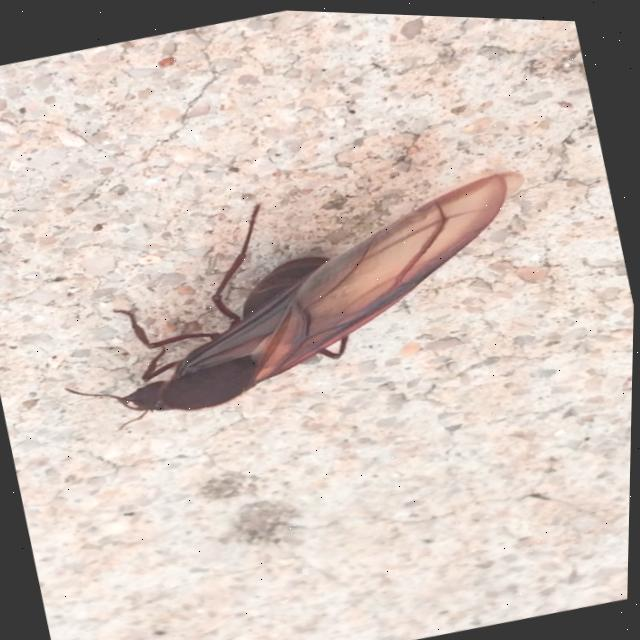Alive-Female-Alate: (30, 134, 565, 453)
